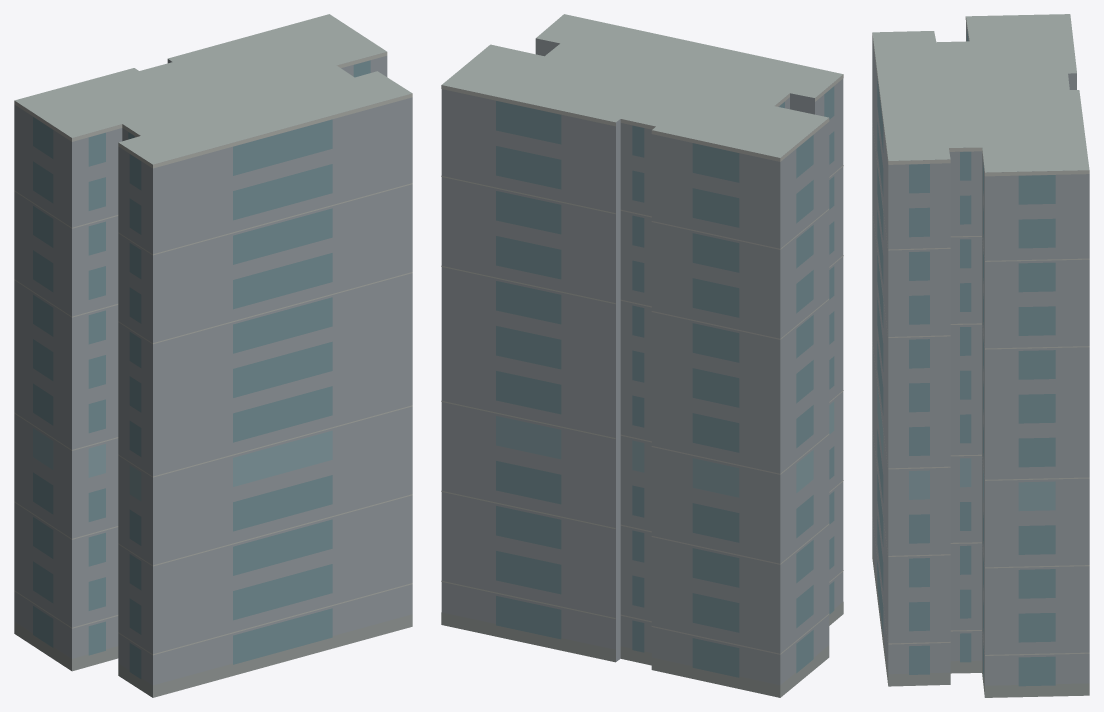
The model's file is survey-upis-32735331.glb.
The picture shows the model from 3 angles, left to right: view 1: azimuth 30°, elevation 25°; view 2: azimuth 150°, elevation 25°; view 3: azimuth 270°, elevation 25°; orthographic projection. The views are drawn at different scales.
Parts seen in each view (by area): view 1: survey-upis-32735331.tmp; view 2: survey-upis-32735331.tmp; view 3: survey-upis-32735331.tmp.
Boxes of the visible parts, x1=… form: survey-upis-32735331.tmp: x1=14, y1=14, x2=412, y2=697; survey-upis-32735331.tmp: x1=441, y1=14, x2=843, y2=697; survey-upis-32735331.tmp: x1=872, y1=14, x2=1089, y2=697.
Size of the model in its own units: 21.44 by 33.1 by 12.43.
